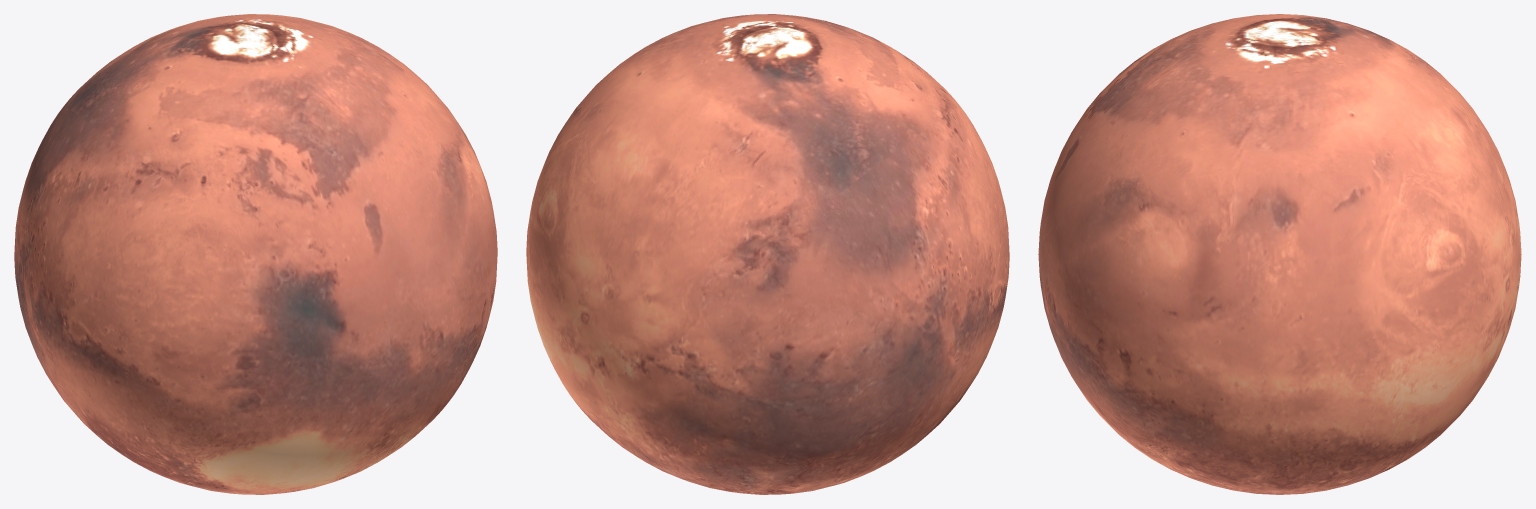
File: mars.glb
3 views of the same model, side by side, from view 1: azimuth 30°, elevation 25°; view 2: azimuth 150°, elevation 25°; view 3: azimuth 270°, elevation 25° (orthographic).
Visible parts, largest first — view 1: Cube.008_0_3; view 2: Cube.008_0_3; view 3: Cube.008_0_3.
Part boxes in pixels (left/top/right/bottom): Cube.008_0_3: left=14, top=14, right=497, bottom=494; Cube.008_0_3: left=526, top=14, right=1009, bottom=494; Cube.008_0_3: left=1038, top=14, right=1521, bottom=494.
Size of the model in its own units: 1.25 by 1.24 by 1.25.
Materials: 1 (1 with a texture image).
